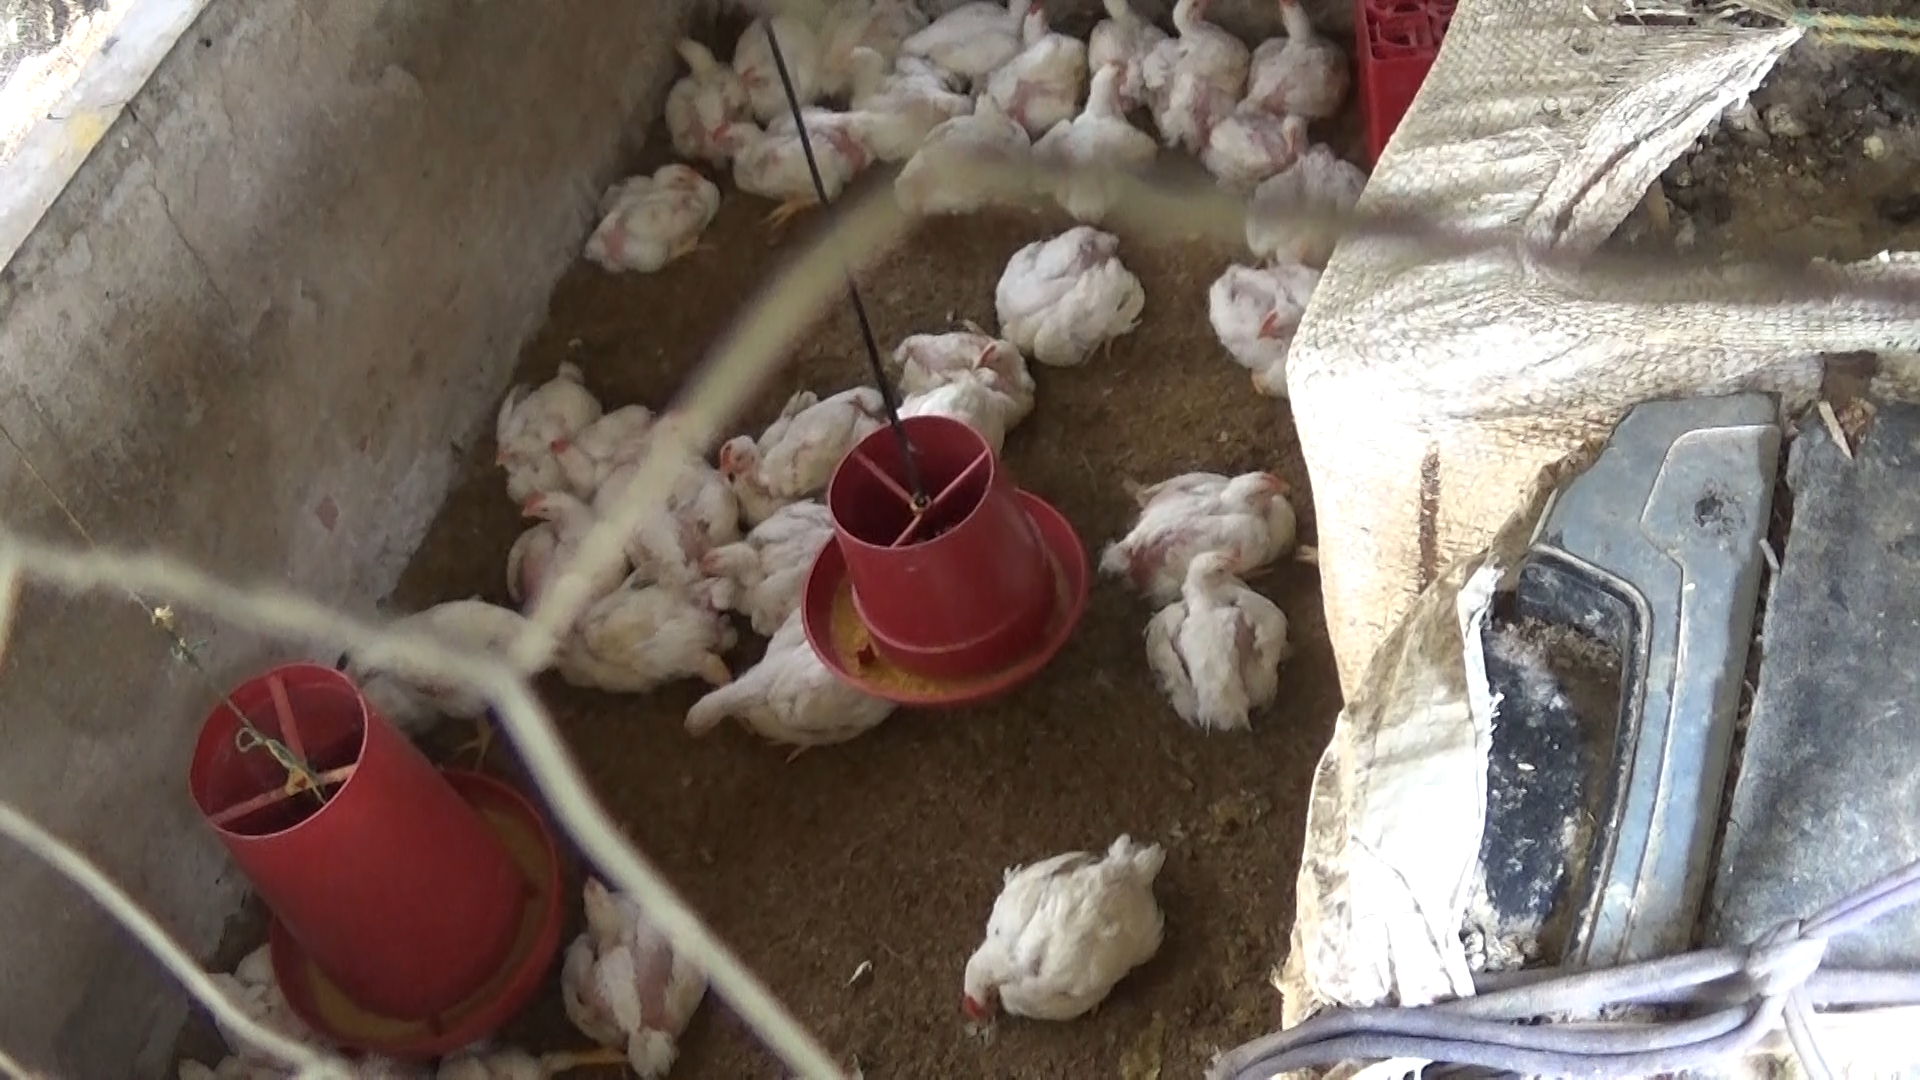Pollos: (938, 825, 1185, 1022), (564, 862, 717, 1077), (680, 615, 890, 769), (1135, 549, 1296, 738), (1095, 462, 1300, 585), (988, 222, 1160, 367), (1035, 51, 1183, 218), (877, 309, 1033, 454), (705, 396, 899, 512), (655, 513, 861, 612), (903, 79, 1033, 227), (1205, 247, 1323, 397), (1258, 129, 1369, 276), (1146, 0, 1244, 158), (835, 38, 961, 156), (709, 116, 844, 218), (1244, 0, 1364, 113), (495, 375, 597, 497), (891, 0, 1047, 80), (654, 26, 749, 157), (1203, 84, 1313, 185), (731, 3, 822, 124), (1000, 3, 1085, 129), (1083, 0, 1174, 109), (630, 162, 732, 255), (585, 196, 673, 280)
